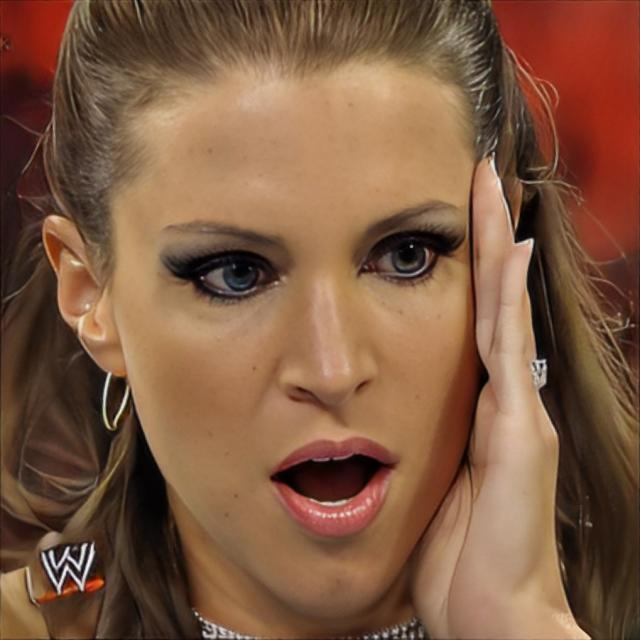surprise: (116, 42, 480, 626)
